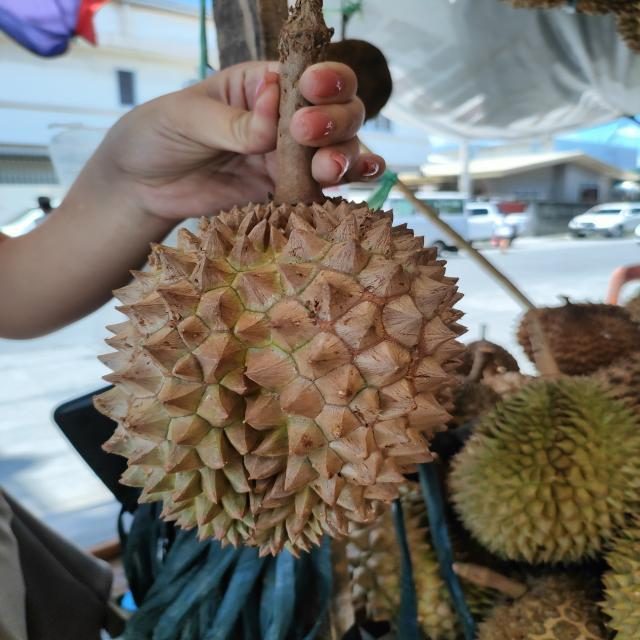mature: (87, 194, 467, 562)
